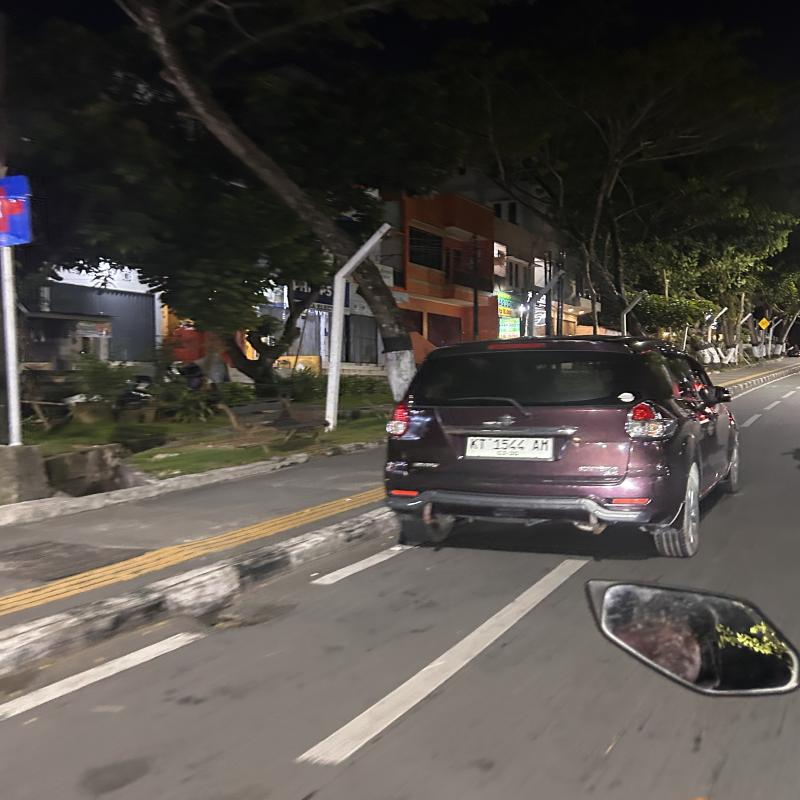license plate on a car: (469, 434, 557, 462)
